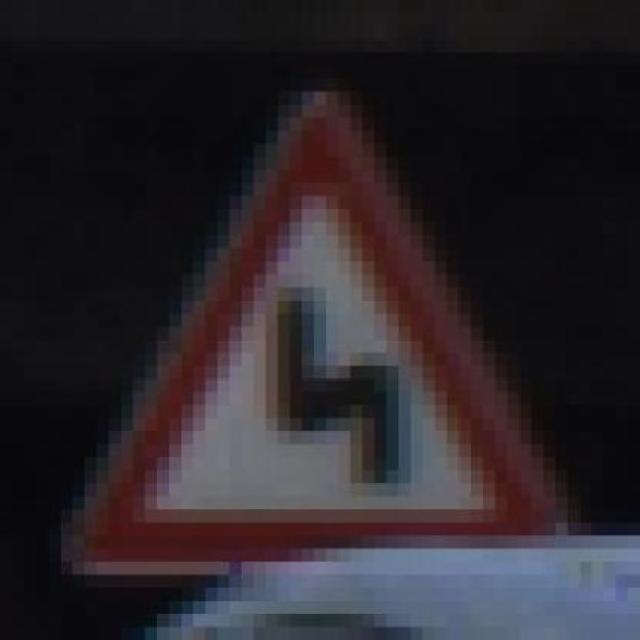Left Zig Zag Traffic: (72, 78, 580, 574)
